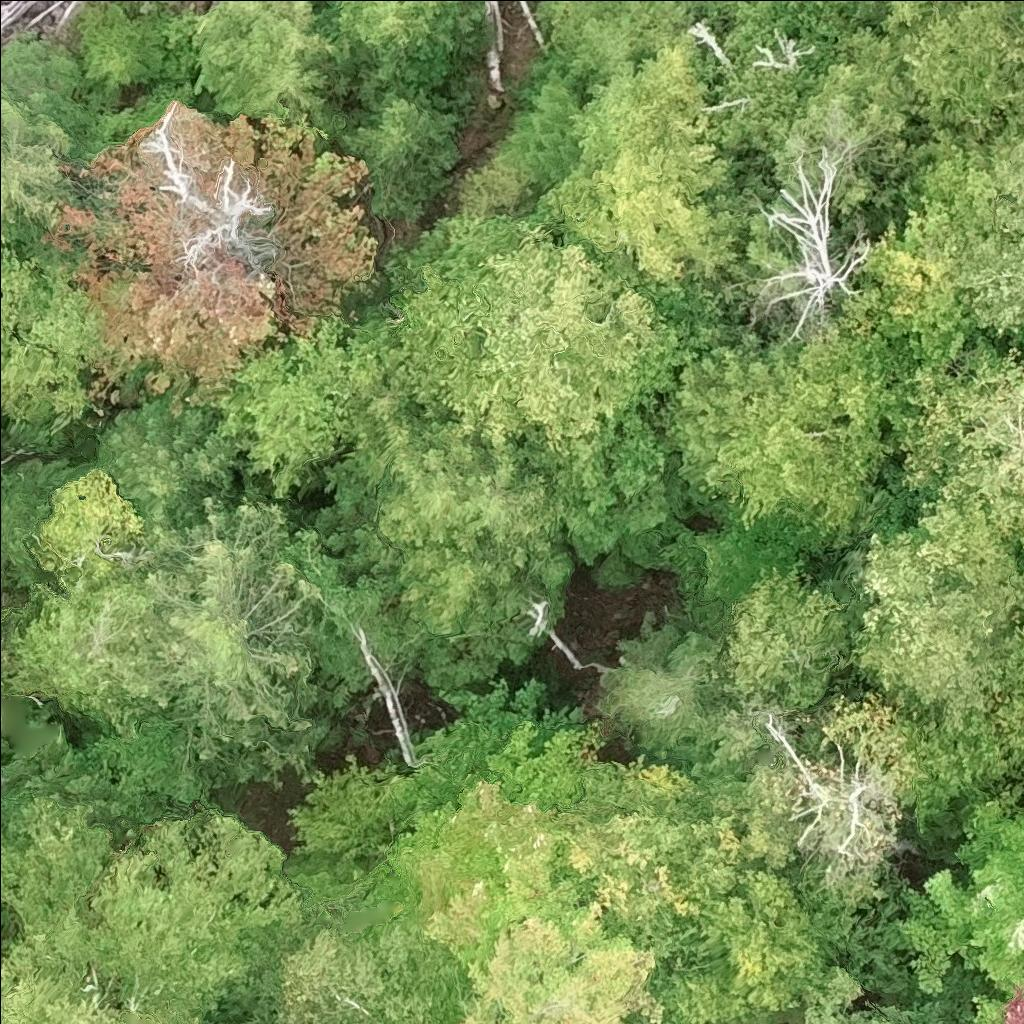crown: (42, 102, 374, 408), (392, 210, 699, 455), (384, 779, 689, 1023), (104, 496, 322, 763), (41, 812, 306, 1023), (700, 323, 906, 545), (373, 408, 562, 636), (836, 497, 1023, 717), (882, 787, 1023, 996), (882, 345, 1023, 551), (654, 333, 808, 508), (919, 108, 1023, 345), (252, 909, 466, 1023), (598, 607, 734, 756), (192, 0, 346, 131), (403, 675, 547, 803), (0, 248, 106, 418), (729, 561, 850, 707), (0, 792, 117, 940), (338, 80, 458, 224), (0, 930, 180, 1023), (317, 0, 482, 101), (282, 751, 431, 862), (660, 519, 797, 634), (898, 700, 1012, 832), (32, 470, 154, 571), (723, 0, 886, 68), (795, 962, 959, 1023), (972, 979, 1023, 1023), (0, 644, 17, 695)
